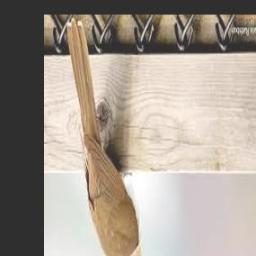Cuckoo: (67, 20, 157, 256)
